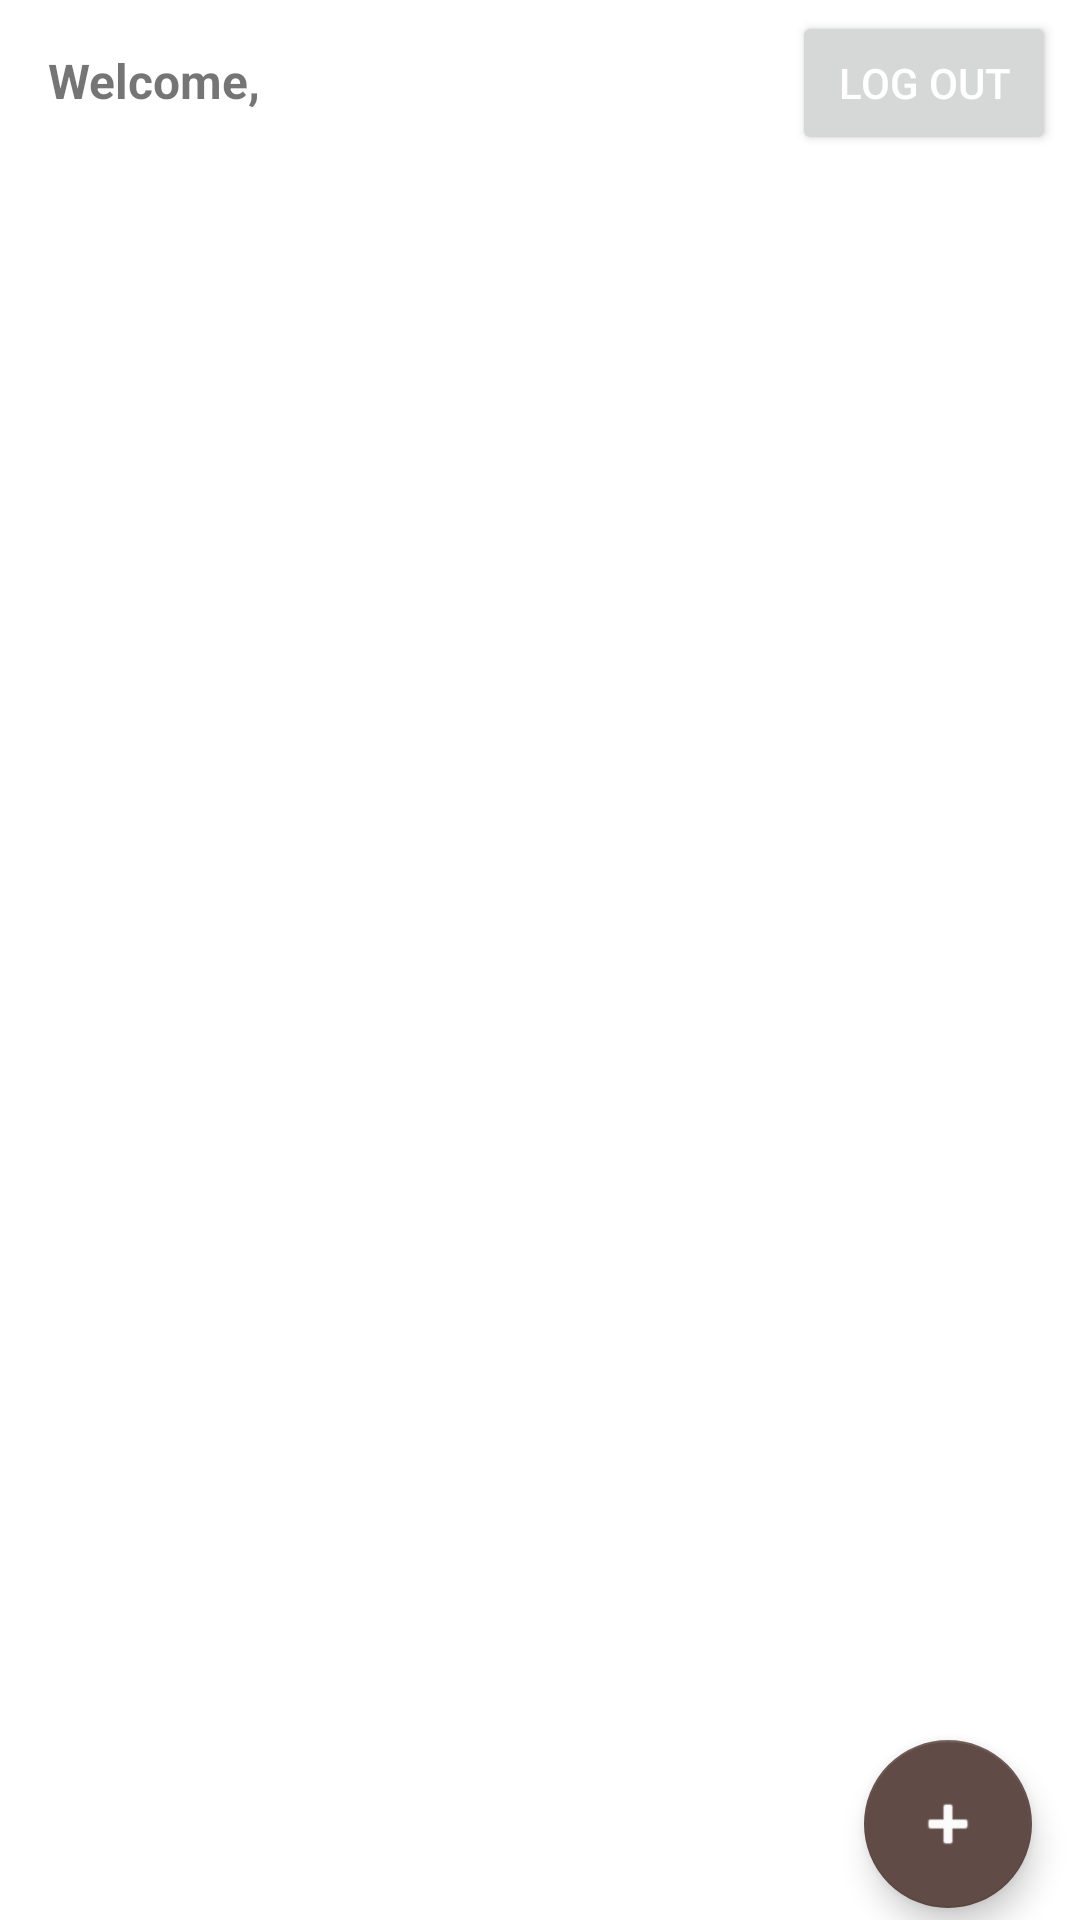

Icon bounding boxes for this 1080×1920 phone screenshot, format (x1, y1, x2, y2):
Add a new password: (864, 1740, 1032, 1908)
